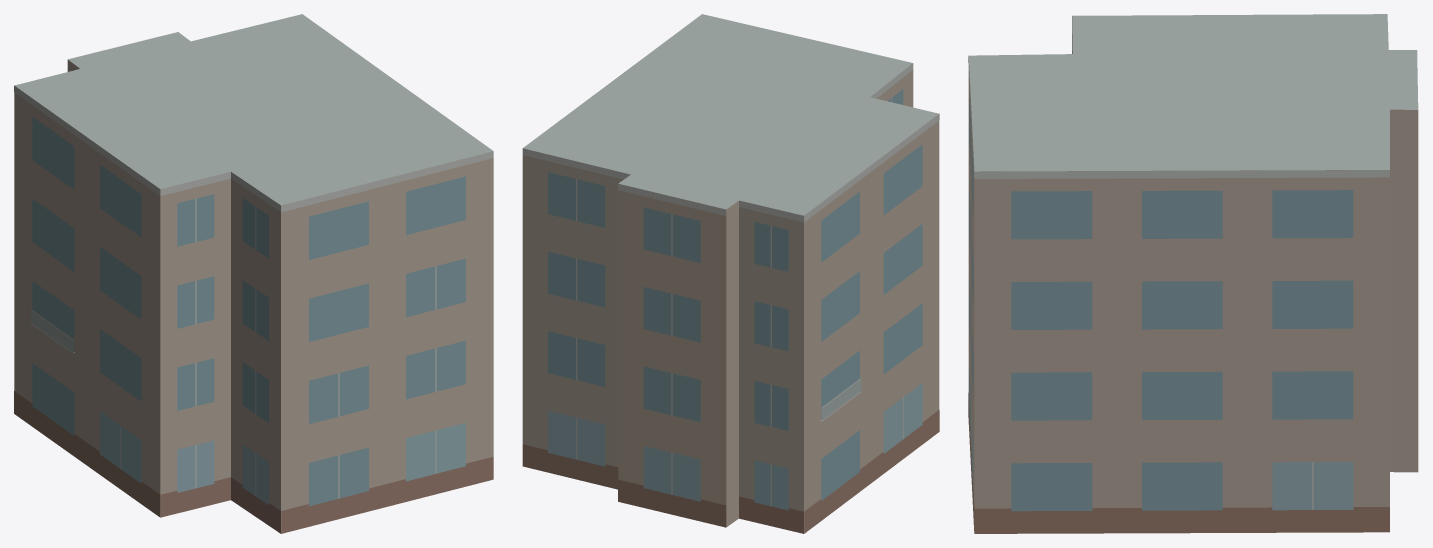
Rendered from survey-upis-32746850.glb.
The picture shows the model from 3 angles, left to right: view 1: azimuth 30°, elevation 25°; view 2: azimuth 150°, elevation 25°; view 3: azimuth 270°, elevation 25°; orthographic projection. The views are drawn at different scales.
Parts seen in each view (by area): view 1: survey-upis-32746850.tmp; view 2: survey-upis-32746850.tmp; view 3: survey-upis-32746850.tmp.
Part boxes in pixels (<box>): survey-upis-32746850.tmp: <box>14,14,493,533</box>; survey-upis-32746850.tmp: <box>522,14,939,533</box>; survey-upis-32746850.tmp: <box>968,14,1418,533</box>.
Size of the model in its own units: 10.93 by 11.7 by 13.17.
